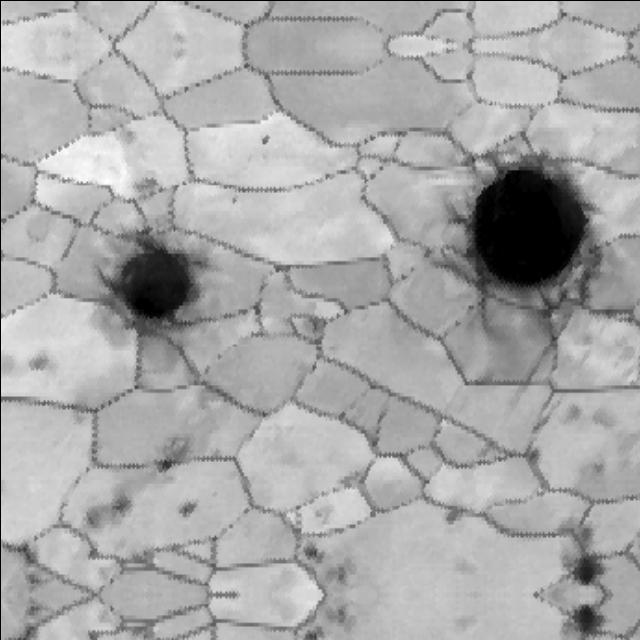good_void: (75, 216, 219, 356), (547, 511, 609, 594), (72, 478, 144, 537), (558, 602, 607, 640), (331, 462, 374, 496), (320, 557, 356, 592), (298, 307, 334, 342), (320, 598, 356, 633), (19, 350, 54, 385), (19, 565, 52, 598), (19, 592, 52, 625), (130, 174, 166, 200), (293, 538, 324, 568), (10, 539, 39, 571), (114, 121, 144, 151), (441, 505, 465, 532), (156, 452, 181, 477), (177, 499, 206, 520), (251, 130, 275, 153), (296, 622, 323, 640), (223, 190, 244, 210), (13, 622, 36, 640)
